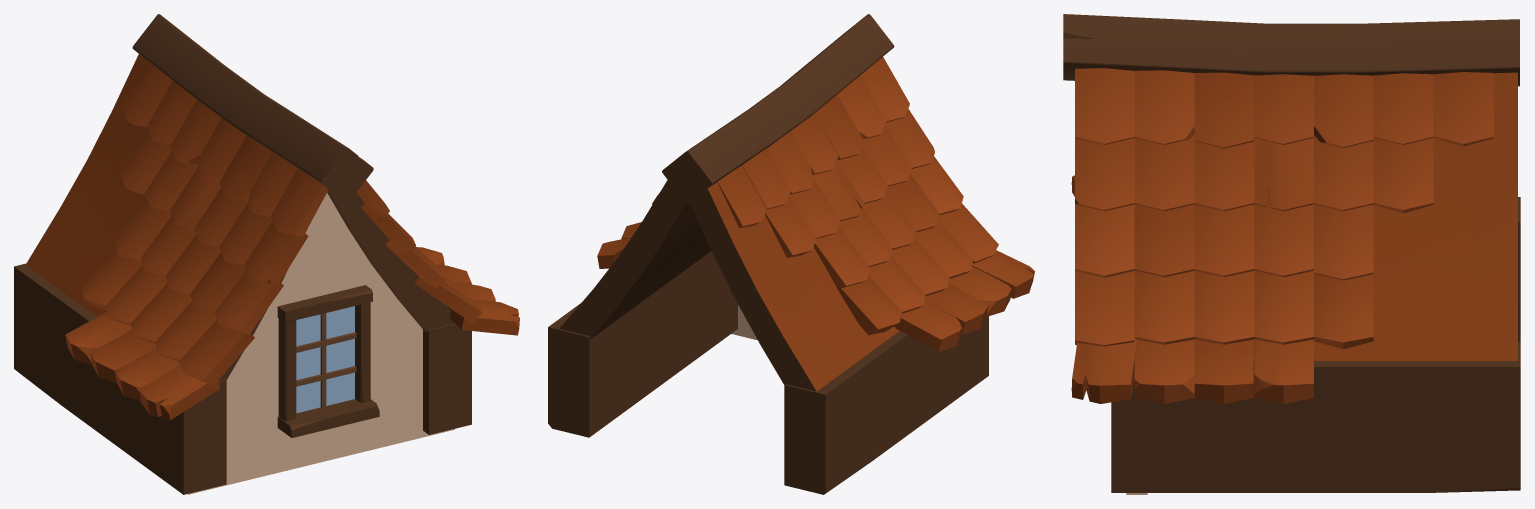
Rendered from HouseRoof_08.glb.
3 renders of one model, left to right at view 1: azimuth 30°, elevation 25°; view 2: azimuth 150°, elevation 25°; view 3: azimuth 270°, elevation 25°, orthographic. The views are drawn at different scales.
Visible parts, largest first — view 1: HouseRoof_08_LOD0; view 2: HouseRoof_08_LOD0; view 3: HouseRoof_08_LOD0.
Boxes of the visible parts, left/top/right/bottom form: HouseRoof_08_LOD0: left=14, top=14, right=519, bottom=494; HouseRoof_08_LOD0: left=548, top=14, right=1034, bottom=494; HouseRoof_08_LOD0: left=1063, top=14, right=1520, bottom=494.
Size of what is drawn, in the model's own units: 3.64 by 3.12 by 3.21.
1 material, 1 textured.
